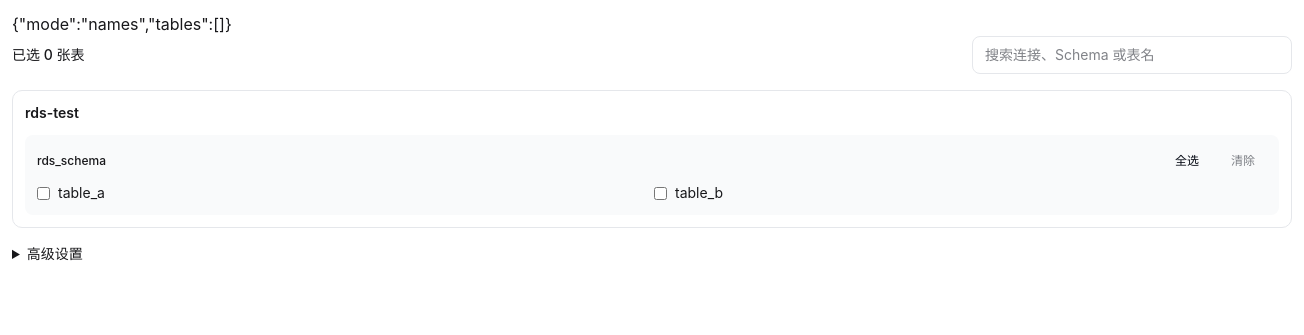
Test: RoleTableGrants › does not render a prefix option
Click the heading "高级设置" at (55, 254), box top-left (27, 245), bottom-right (83, 262)
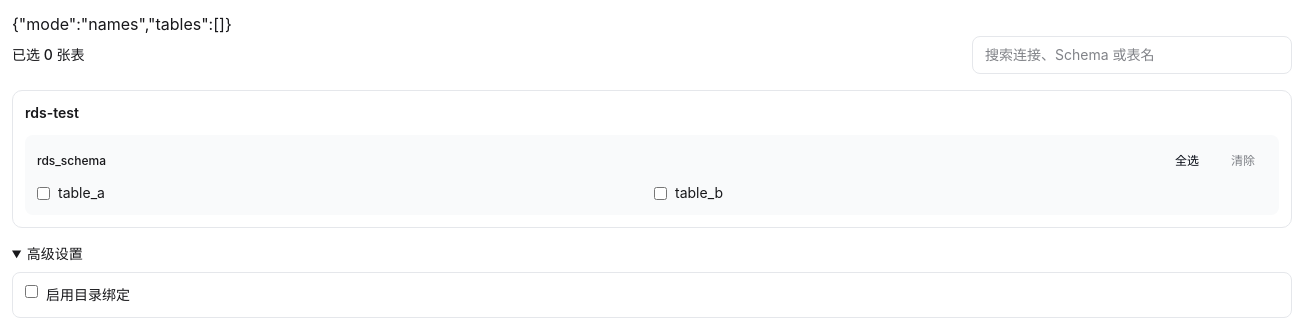
Expected: the checkbox labelled "启用目录绑定" is shown, top-left (25, 285), bottom-right (38, 298)
